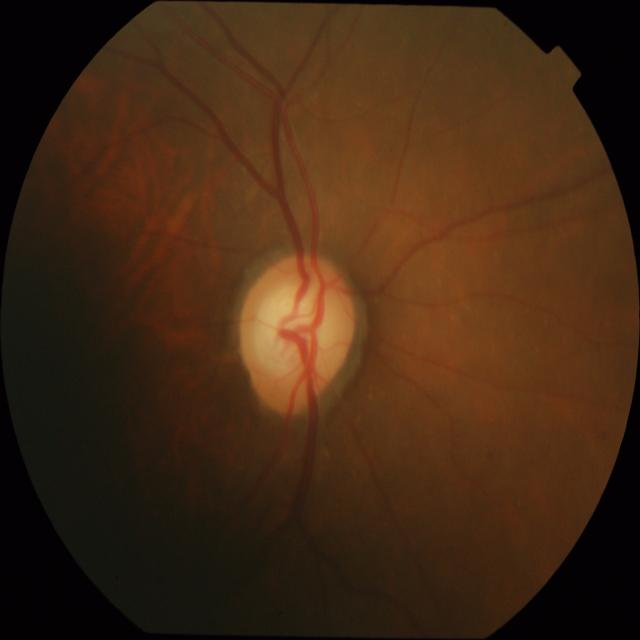OC: (250, 282, 343, 380)
OD: (238, 256, 355, 417)
